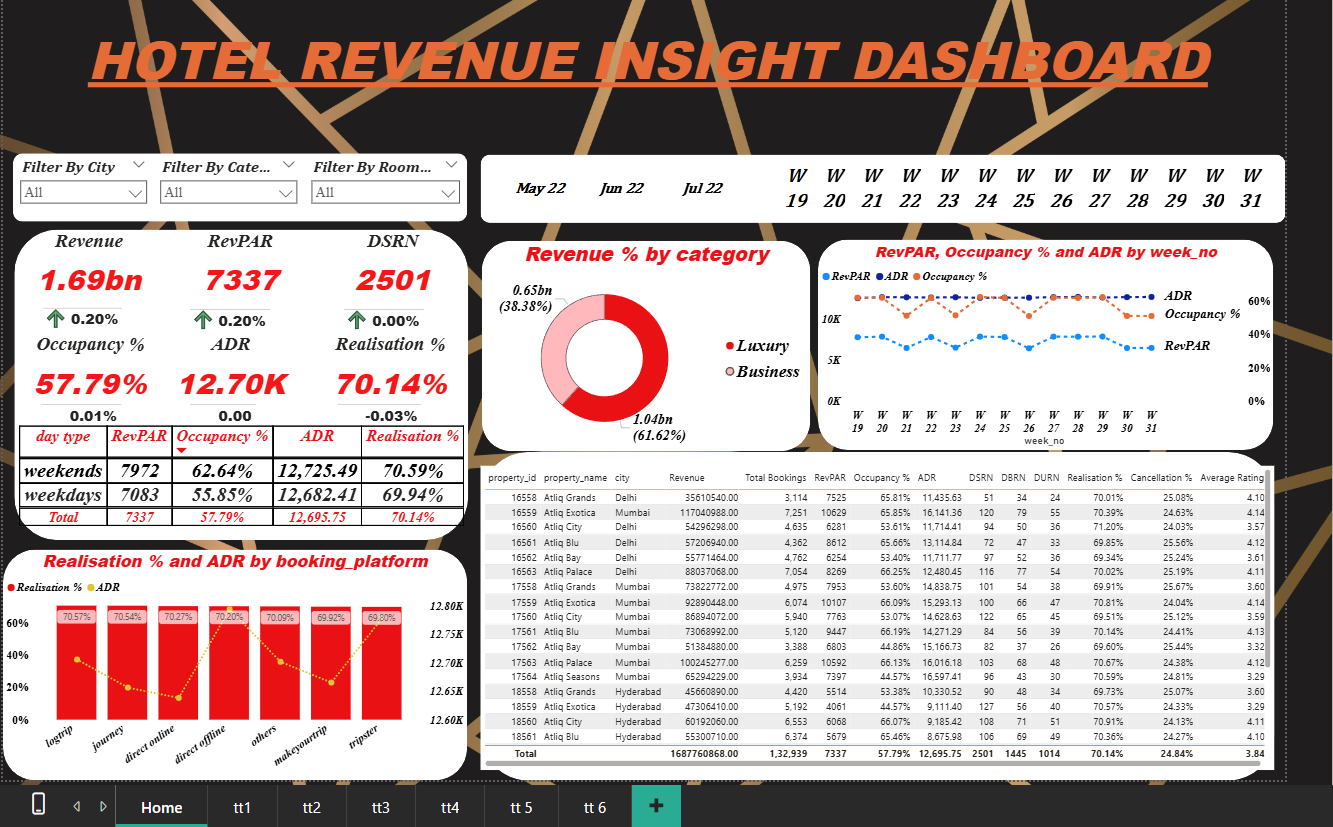

The dashboard page shown, as its layout file describes it:
{"tool":"powerbi","page":{"name":"Home","canvas":[1800,1100],"ordinal":0},"visuals":[{"type":"shape","box":[13.2,218.9,637.7,96.2],"z":0},{"type":"slicer","fields":{"Values":["dim_hotels.city"]},"box":[13.2,218.9,198.1,96.2],"z":1000},{"type":"slicer","fields":{"Values":["dim_hotels.category"]},"box":[210.6,219.4,212.3,96.5],"z":2000},{"type":"slicer","fields":{"Values":["dim_rooms.room_class"]},"box":[422.9,219.4,228.1,98.3],"z":3000},{"type":"shape","box":[669.8,220.8,1130.2,96.2],"z":4000},{"type":"slicer","fields":{"Values":["dim_date.mmm yy"]},"box":[669.8,218.9,390.6,98.1],"z":5000},{"type":"slicer","fields":{"Values":["dim_date.week_no"]},"box":[1060.4,220.8,739.6,98.1],"z":6000},{"type":"shape","box":[16,325.9,637.5,436.3],"z":7000},{"type":"card","title":"Revenue","fields":{"Values":["Imp measures.Revenue"]},"box":[14.2,325.9,213.7,108.6],"z":8000},{"type":"card","title":"RevPAR","fields":{"Values":["Imp measures.RevPAR"]},"box":[226.2,325.9,213.7,108.6],"z":9000},{"type":"card","title":"DSRN","fields":{"Values":["Imp measures.DSRN"]},"box":[439.9,325.9,213.7,108.6],"z":10000},{"type":"card","title":"ADR","fields":{"Values":["Imp measures.ADR"]},"box":[213.7,471.9,211.9,110.4],"z":11000},{"type":"card","title":"Occupancy %","fields":{"Values":["Imp measures.Occupancy %"]},"box":[16,471.9,213.7,110.4],"z":12000},{"type":"card","title":"Realisation %","fields":{"Values":["Imp measures.Realisation %"]},"box":[436.3,471.9,213.7,110.4],"z":13000},{"type":"tableEx","fields":{"Values":["dim_date.day type","Imp measures.RevPAR","Imp measures.Occupancy %","Imp measures.ADR","Imp measures.Realisation %"]},"box":[16,596.6,655.3,165.6],"z":14000},{"type":"tableEx","fields":{"Values":["Imp measures.Revenue WoW change %"]},"box":[49.9,406,160.3,81.9],"z":15000},{"type":"shape","box":[671.4,341.9,461.2,295.6],"z":16000},{"type":"donutChart","title":"Revenue % by category","fields":{"Y":["Imp measures.Revenue"],"Category":["dim_hotels.category"]},"box":[671.4,340.1,461.2,295.6],"z":17000},{"type":"tableEx","fields":{"Values":["Imp measures.RevPAR WoW change %"]},"box":[256.4,407.8,169.2,81.9],"z":18000},{"type":"tableEx","fields":{"Values":["Imp measures.DSRN WoW change %"]},"box":[471.9,407.8,149.6,81.9],"z":19000},{"type":"tableEx","fields":{"Values":["Imp measures.Occupancy WoW change %"]},"box":[48.1,541.4,149.6,81.9],"z":20000},{"type":"tableEx","fields":{"Values":["Imp measures.ADR WoW change %"]},"box":[256.4,541.4,149.6,81.9],"z":21000},{"type":"tableEx","fields":{"Values":["Imp measures.Realisation WoW change %"]},"box":[463,541.4,149.6,81.9],"z":22000},{"type":"shape","box":[1145,340.1,639.3,295.6],"z":23000},{"type":"lineChart","title":"RevPAR, Occupancy % and ADR by week_no","fields":{"Category":["dim_date.week_no"],"Y":["Imp measures.RevPAR","Imp measures.ADR"],"Y2":["Imp measures.Occupancy %"]},"box":[1145,341.9,639.3,293.8],"z":24000},{"type":"shape","box":[0,776.4,651.8,324.1],"z":25000},{"type":"shape","box":[671.4,639.3,1113,461.2],"z":26000},{"type":"lineStackedColumnComboChart","fields":{"Category":["fact_bookings.booking_platform"],"Y":["Imp measures.Realisation %"],"Y2":["Imp measures.ADR"]},"box":[0,776.4,651.8,324.1],"z":27000},{"type":"tableEx","fields":{"Values":["dim_hotels.property_id","dim_hotels.property_name","dim_hotels.city","Imp measures.Revenue","Imp measures.Total Bookings","Imp measures.RevPAR","Imp measures.Occupancy %","Imp measures.ADR","Imp measures.DSRN","Imp measures.DBRN","Imp measures.DURN","Imp measures.Realisation %"]},"box":[669.6,658.9,1114.8,427.4],"z":28000},{"type":"textbox","box":[12.5,32.1,1786.1,144.2],"z":29000}]}

Visuals, with their boxes on the page's 1800x1100 design canvas (x1, y1, x2, y2). These are canvas units, not pixel positions in the 1333x827 screenshot, which may show the page scaled, cropped or inside an application window:
shape: x1=13 y1=219 x2=651 y2=315
slicer - dim_hotels.city: x1=13 y1=219 x2=211 y2=315
slicer - dim_hotels.category: x1=211 y1=219 x2=423 y2=316
slicer - dim_rooms.room_class: x1=423 y1=219 x2=651 y2=318
shape: x1=670 y1=221 x2=1800 y2=317
slicer - dim_date.mmm yy: x1=670 y1=219 x2=1060 y2=317
slicer - dim_date.week_no: x1=1060 y1=221 x2=1800 y2=319
shape: x1=16 y1=326 x2=654 y2=762
"Revenue" card: x1=14 y1=326 x2=228 y2=434
"RevPAR" card: x1=226 y1=326 x2=440 y2=434
"DSRN" card: x1=440 y1=326 x2=654 y2=434
"ADR" card: x1=214 y1=472 x2=426 y2=582
"Occupancy %" card: x1=16 y1=472 x2=230 y2=582
"Realisation %" card: x1=436 y1=472 x2=650 y2=582
tableEx - dim_date.day type x Imp measures.RevPAR: x1=16 y1=597 x2=671 y2=762
tableEx - Imp measures.Revenue WoW change %: x1=50 y1=406 x2=210 y2=488
shape: x1=671 y1=342 x2=1133 y2=638
"Revenue % by category" donutChart: x1=671 y1=340 x2=1133 y2=636
tableEx - Imp measures.RevPAR WoW change %: x1=256 y1=408 x2=426 y2=490
tableEx - Imp measures.DSRN WoW change %: x1=472 y1=408 x2=622 y2=490
tableEx - Imp measures.Occupancy WoW change %: x1=48 y1=541 x2=198 y2=623
tableEx - Imp measures.ADR WoW change %: x1=256 y1=541 x2=406 y2=623
tableEx - Imp measures.Realisation WoW change %: x1=463 y1=541 x2=613 y2=623
shape: x1=1145 y1=340 x2=1784 y2=636
"RevPAR, Occupancy % and ADR by week_no" lineChart: x1=1145 y1=342 x2=1784 y2=636
shape: x1=0 y1=776 x2=652 y2=1100
shape: x1=671 y1=639 x2=1784 y2=1100
lineStackedColumnComboChart - fact_bookings.booking_platform x Imp measures.Realisation %: x1=0 y1=776 x2=652 y2=1100
tableEx - dim_hotels.property_id x dim_hotels.property_name: x1=670 y1=659 x2=1784 y2=1086
textbox: x1=12 y1=32 x2=1799 y2=176
